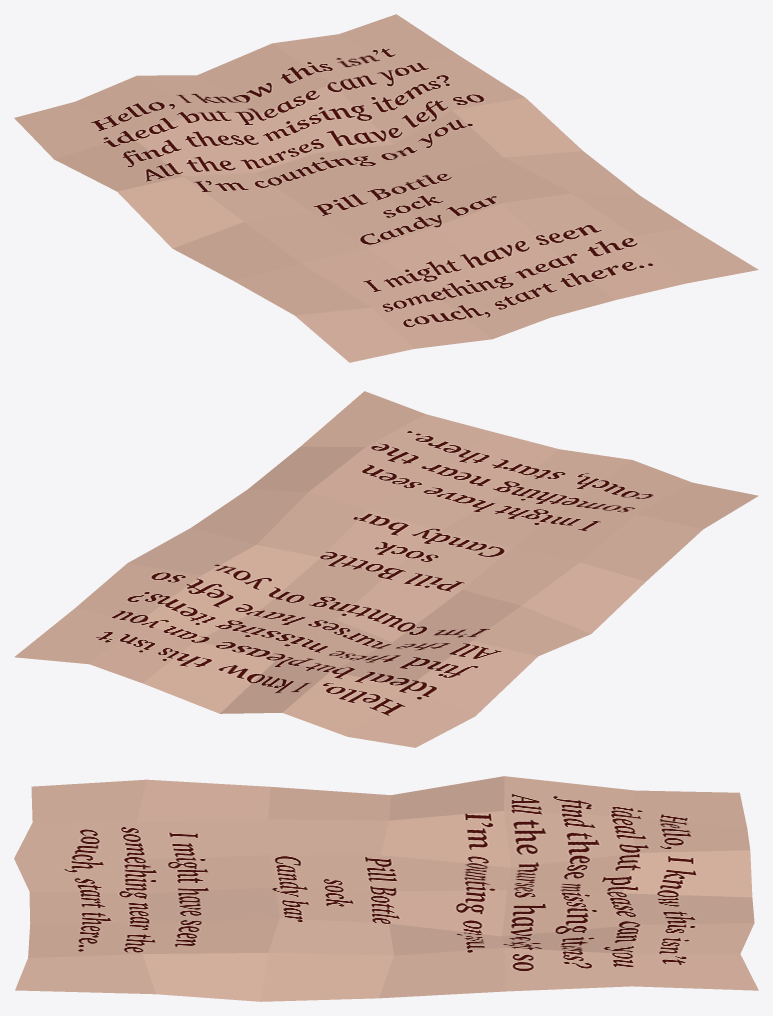
File: directions.fbx
3 views of the same model, one above another, from view 1: azimuth 30°, elevation 25°; view 2: azimuth 150°, elevation 25°; view 3: azimuth 270°, elevation 25° (orthographic). The views are drawn at different scales.
Visible parts, largest first — view 1: Plane; view 2: Plane; view 3: Plane.
Part boxes in pixels (x1,y1,x2,y2): Plane: [14, 14, 758, 362]; Plane: [14, 391, 758, 747]; Plane: [14, 776, 758, 1001].
Bounding box in the file's own units: 509 × 22.84 × 768.
